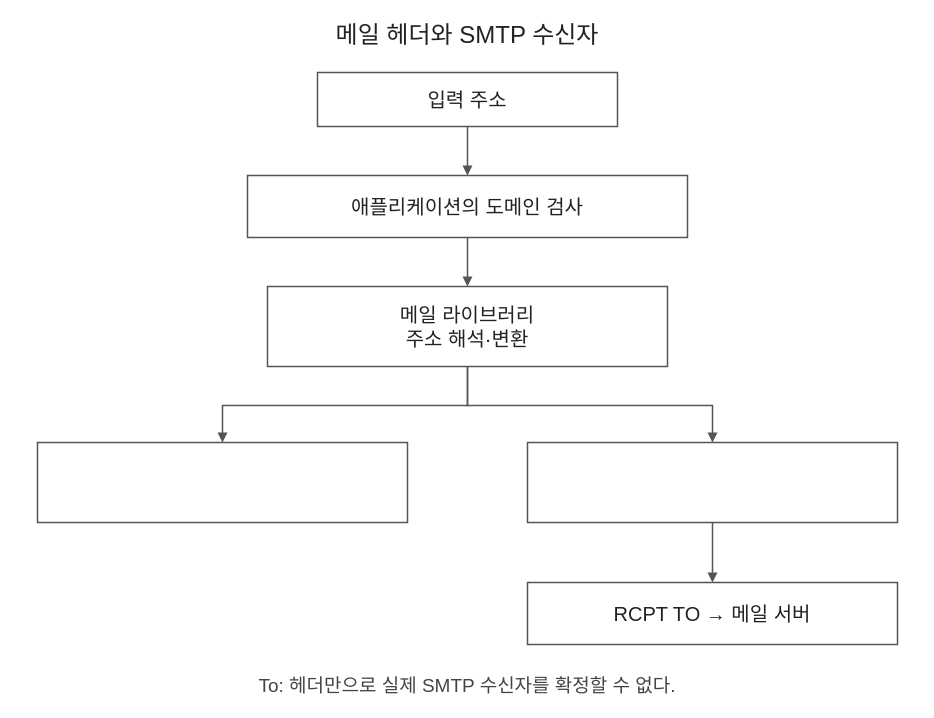
Image size: 934x718. Some labels were removed from this diagram. Each missing label, with the centre of its shape:
SMTP Envelope 전송에 사용하는 수신자: point (712, 482)
To: 헤더 화면에 표시되는 주소: point (222, 482)
